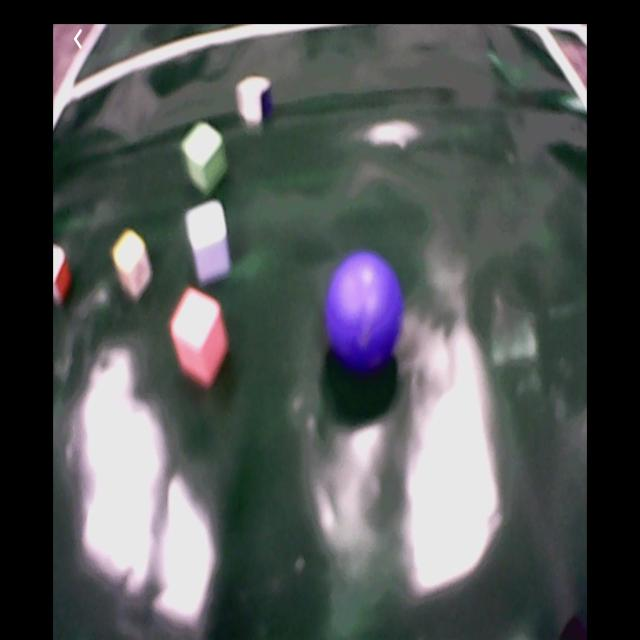ball: (325, 248, 403, 371)
